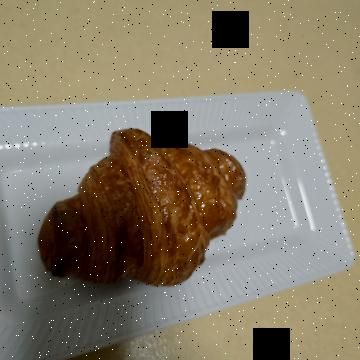croissant: (123, 98, 297, 324)
